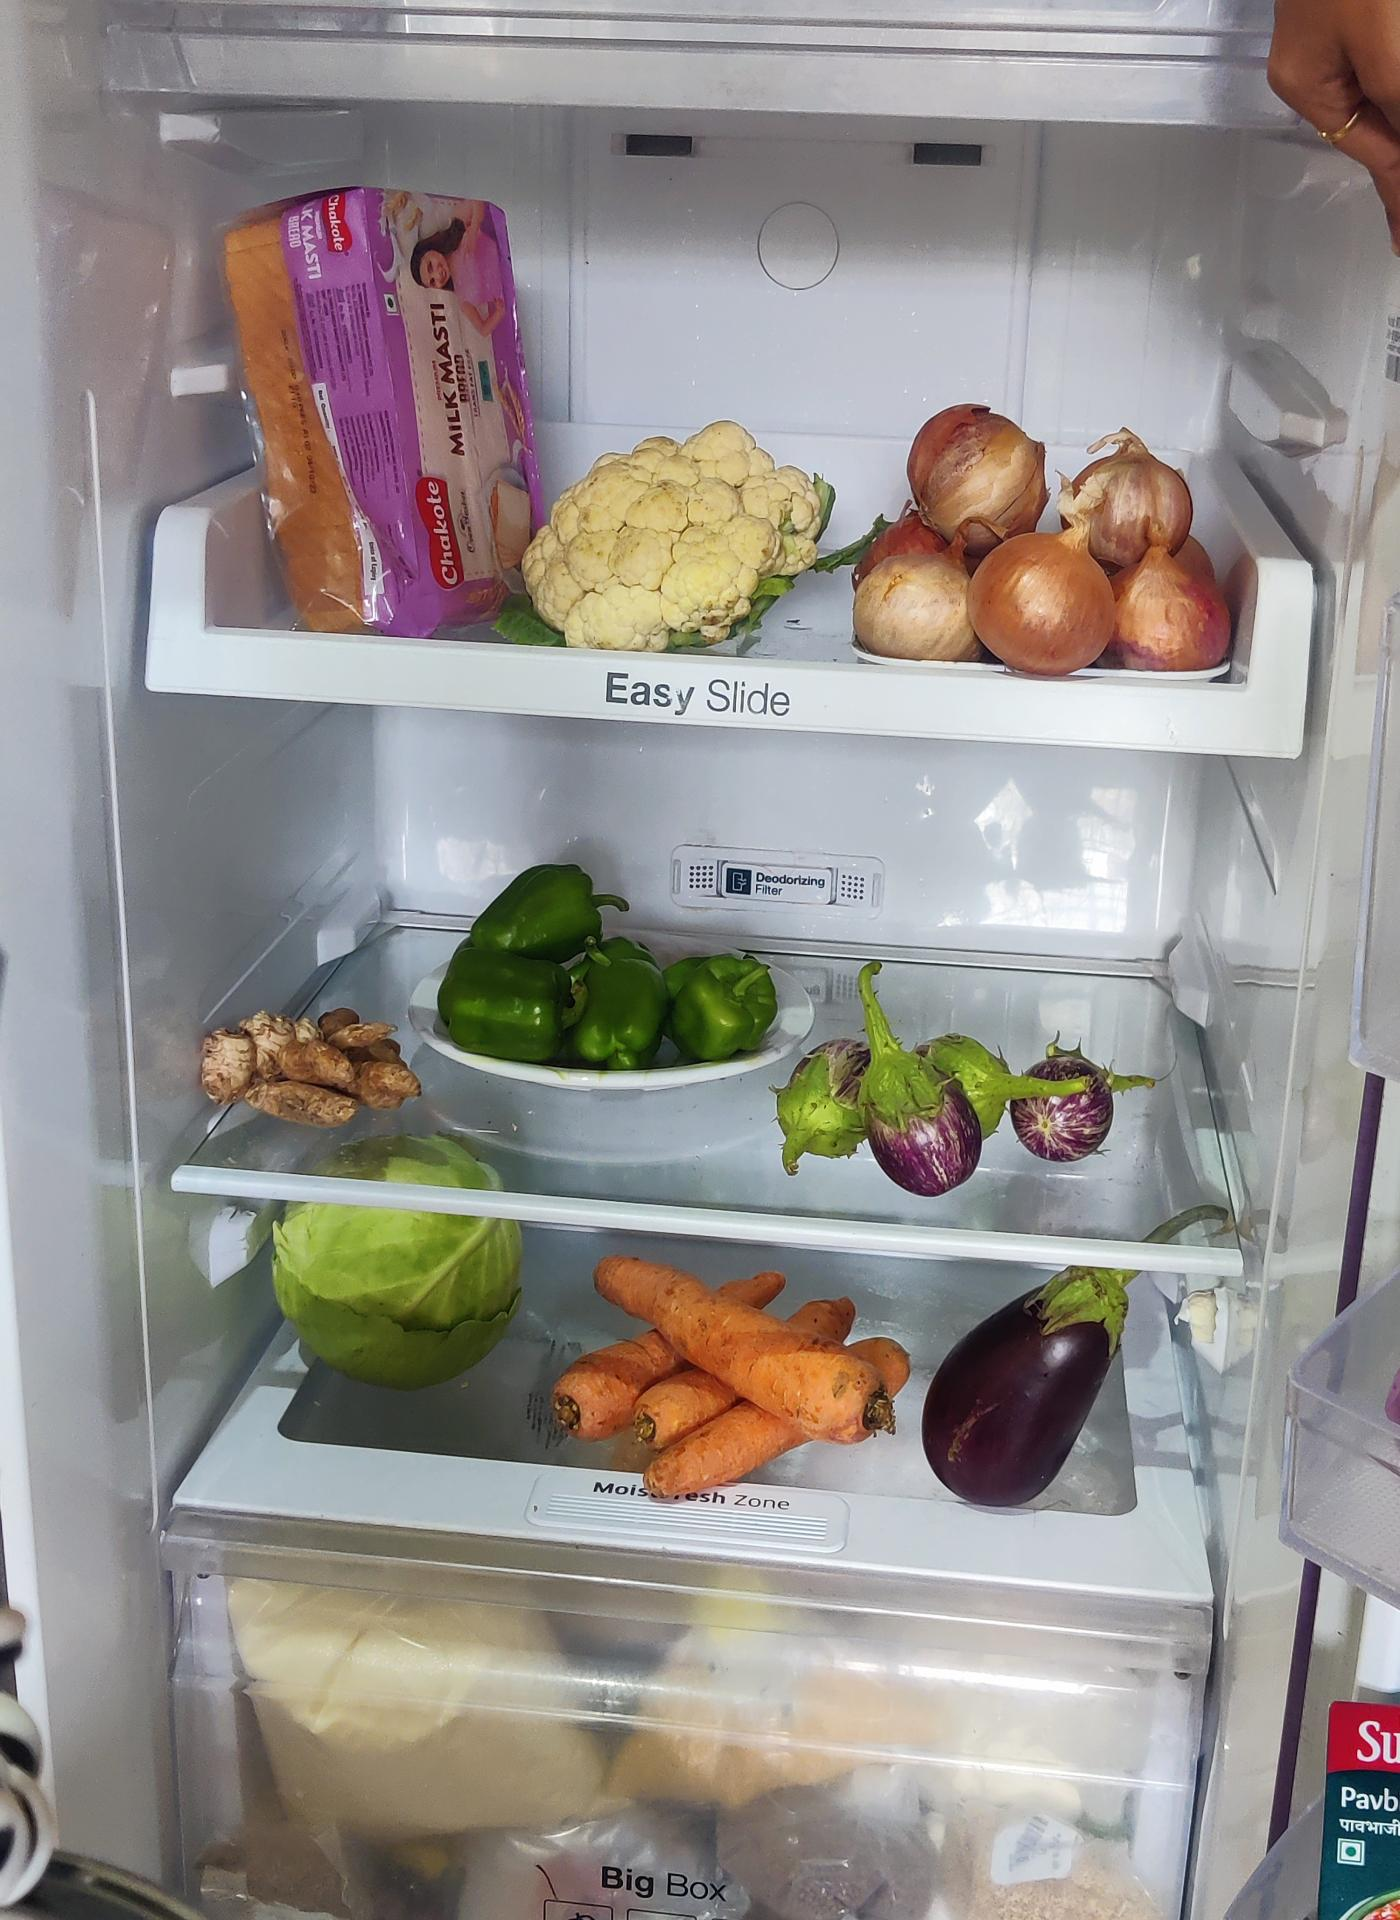bread: (221, 170, 534, 631)
brinjal: (790, 957, 1109, 1185), (926, 1260, 1138, 1501)
butter: (282, 1197, 531, 1389)
capsicum: (440, 856, 787, 1070)
carrots: (529, 1221, 917, 1503)
cauliflower: (543, 425, 833, 657)
ginger: (188, 1005, 419, 1127)
onion: (847, 391, 1243, 683)
